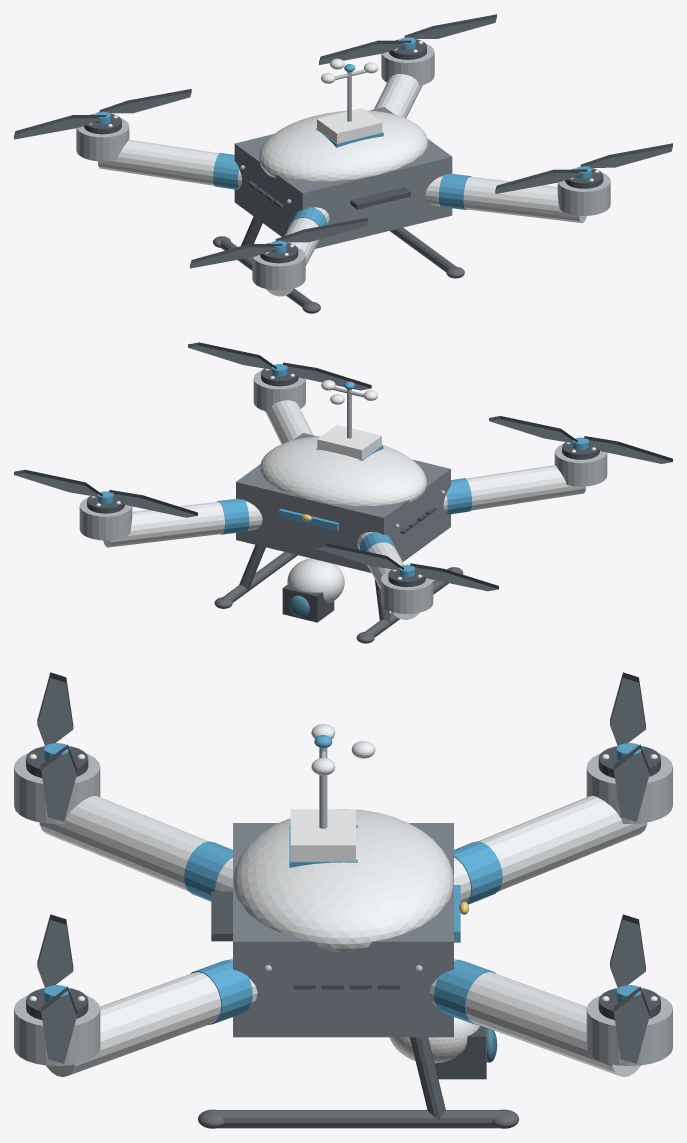
Rendered from drone.glb.
3 renders of one model, top to bottom at view 1: azimuth 30°, elevation 25°; view 2: azimuth 150°, elevation 25°; view 3: azimuth 270°, elevation 25°, orthographic. The views are drawn at different scales.
Parts seen in each view (by area): view 1: Drone_Body, Upper_Fairing, Arm_FL, Arm_RR, Propeller_FL, Propeller_RR, Propeller_RL, Propeller_FR, Motor_RL, Motor_RR, Weather_Sensor, Motor_FL (+8 smaller); view 2: Drone_Body, Upper_Fairing, Arm_RL, Arm_FR, Propeller_FR, Propeller_FL, Propeller_RL, Propeller_RR, Gimbal, Motor_FR, Motor_FL, Weather_Sensor (+11 smaller); view 3: Drone_Body, Upper_Fairing, Arm_FL, Arm_RL, Arm_FR, Arm_RR, Landing_Gear_Foot_1, Propeller_RL, Propeller_RR, Propeller_FL, Propeller_FR, Weather_Sensor (+16 smaller).
Boxes of the visible parts, box(x1,y1,x2,y2) form: Drone_Body: box(234, 107, 452, 248); Upper_Fairing: box(259, 110, 427, 181); Arm_FL: box(98, 139, 241, 187); Arm_RR: box(425, 176, 586, 223); Propeller_FL: box(14, 89, 191, 139); Propeller_RR: box(495, 143, 672, 193); Propeller_RL: box(190, 217, 367, 268); Propeller_FR: box(319, 14, 496, 64); Motor_RL: box(252, 247, 305, 290); Motor_RR: box(557, 172, 610, 215); Weather_Sensor: box(317, 108, 382, 143); Motor_FL: box(76, 118, 129, 161); Drone_Body: box(236, 433, 450, 572); Upper_Fairing: box(260, 436, 426, 506); Arm_RL: box(443, 465, 585, 512); Arm_FR: box(103, 501, 262, 547); Propeller_FR: box(14, 469, 197, 517); Propeller_FL: box(315, 543, 498, 591); Propeller_RL: box(489, 416, 672, 463); Propeller_RR: box(188, 342, 371, 390); Gimbal: box(287, 558, 344, 602); Motor_FR: box(79, 497, 132, 540); Motor_FL: box(381, 571, 433, 613); Weather_Sensor: box(317, 425, 381, 459); Drone_Body: box(233, 823, 453, 1037); Upper_Fairing: box(233, 809, 453, 952); Arm_FL: box(454, 796, 647, 902); Arm_RL: box(39, 796, 232, 891); Arm_FR: box(429, 958, 640, 1077); Arm_RR: box(46, 958, 257, 1077); Landing_Gear_Foot_1: box(213, 1110, 504, 1128); Propeller_RL: box(37, 672, 76, 821); Propeller_RR: box(37, 914, 76, 1063); Propeller_FL: box(610, 672, 649, 821); Propeller_FR: box(610, 914, 649, 1063); Weather_Sensor: box(290, 809, 355, 861).
Size of the model in its own units: 0.91 by 0.367 by 0.656.
